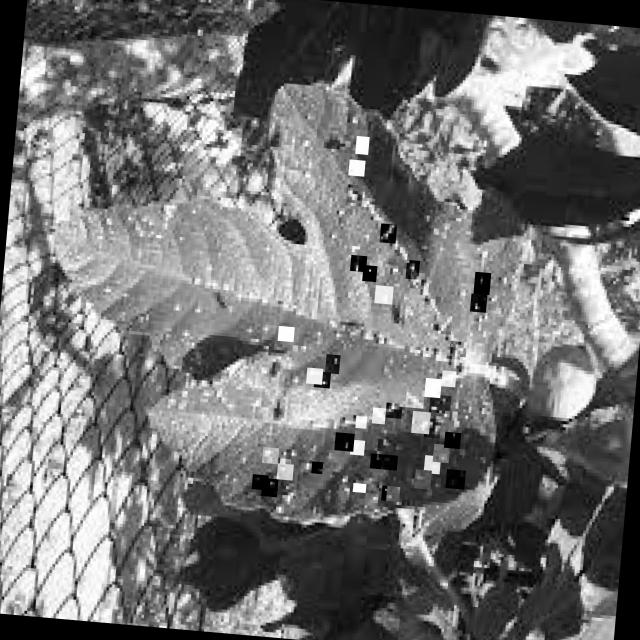scale_insect: (410, 410, 430, 432), (473, 270, 491, 294), (445, 468, 466, 488), (334, 430, 354, 450), (404, 388, 424, 408), (432, 313, 452, 333), (374, 284, 394, 304), (260, 476, 278, 496), (423, 416, 441, 436), (413, 468, 431, 488), (338, 412, 356, 432), (424, 376, 442, 396), (379, 222, 397, 242), (422, 454, 440, 473), (423, 294, 441, 313), (344, 183, 362, 202), (468, 292, 486, 311), (432, 442, 449, 462), (324, 352, 340, 372), (354, 134, 370, 154), (444, 430, 461, 448), (405, 258, 420, 278), (276, 462, 293, 479), (313, 370, 330, 387), (305, 366, 322, 383), (349, 253, 366, 270), (380, 453, 398, 469), (251, 473, 268, 489), (261, 446, 278, 462), (338, 474, 354, 491), (428, 396, 445, 412), (385, 401, 402, 417), (449, 340, 466, 356), (348, 158, 364, 175), (278, 324, 294, 340), (262, 323, 278, 339), (441, 369, 456, 386), (389, 257, 404, 274), (362, 264, 377, 280), (372, 406, 386, 423), (410, 271, 424, 288), (436, 394, 451, 409), (364, 492, 378, 508), (350, 438, 364, 454), (386, 484, 400, 500), (370, 452, 384, 468), (352, 414, 367, 427), (338, 483, 350, 499), (381, 484, 392, 500), (377, 438, 391, 450), (279, 456, 291, 469), (351, 482, 366, 492), (311, 460, 323, 472)
